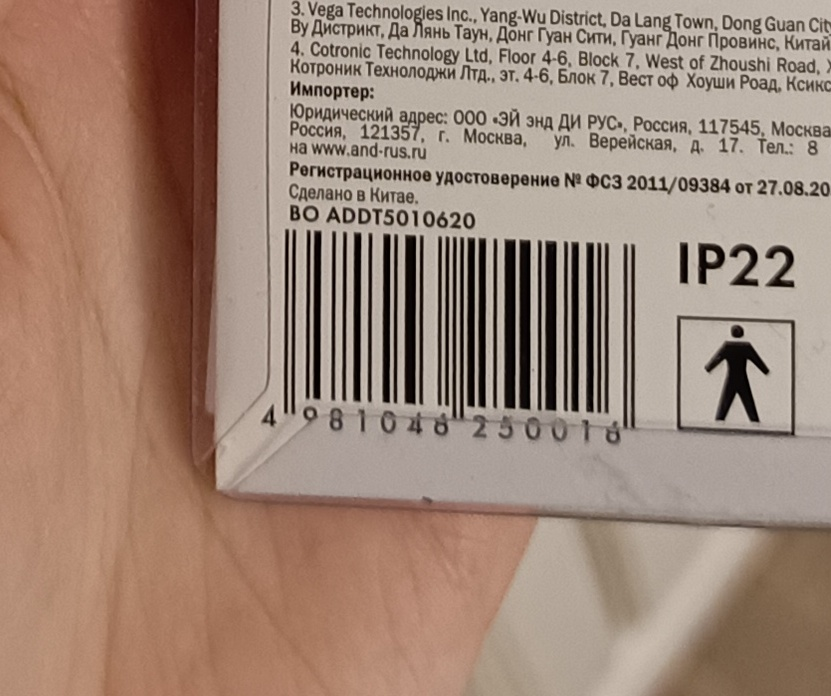1d: (270, 216, 642, 423)
